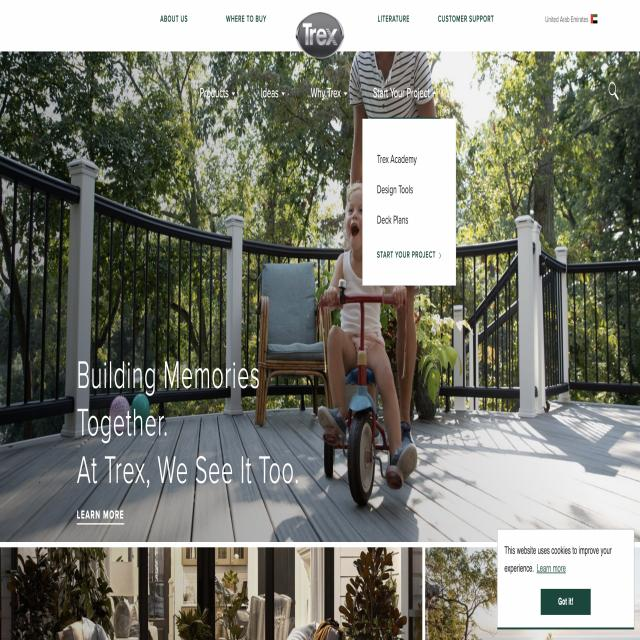Logo: (290, 9, 358, 60)
Navigation: (159, 6, 499, 33)
